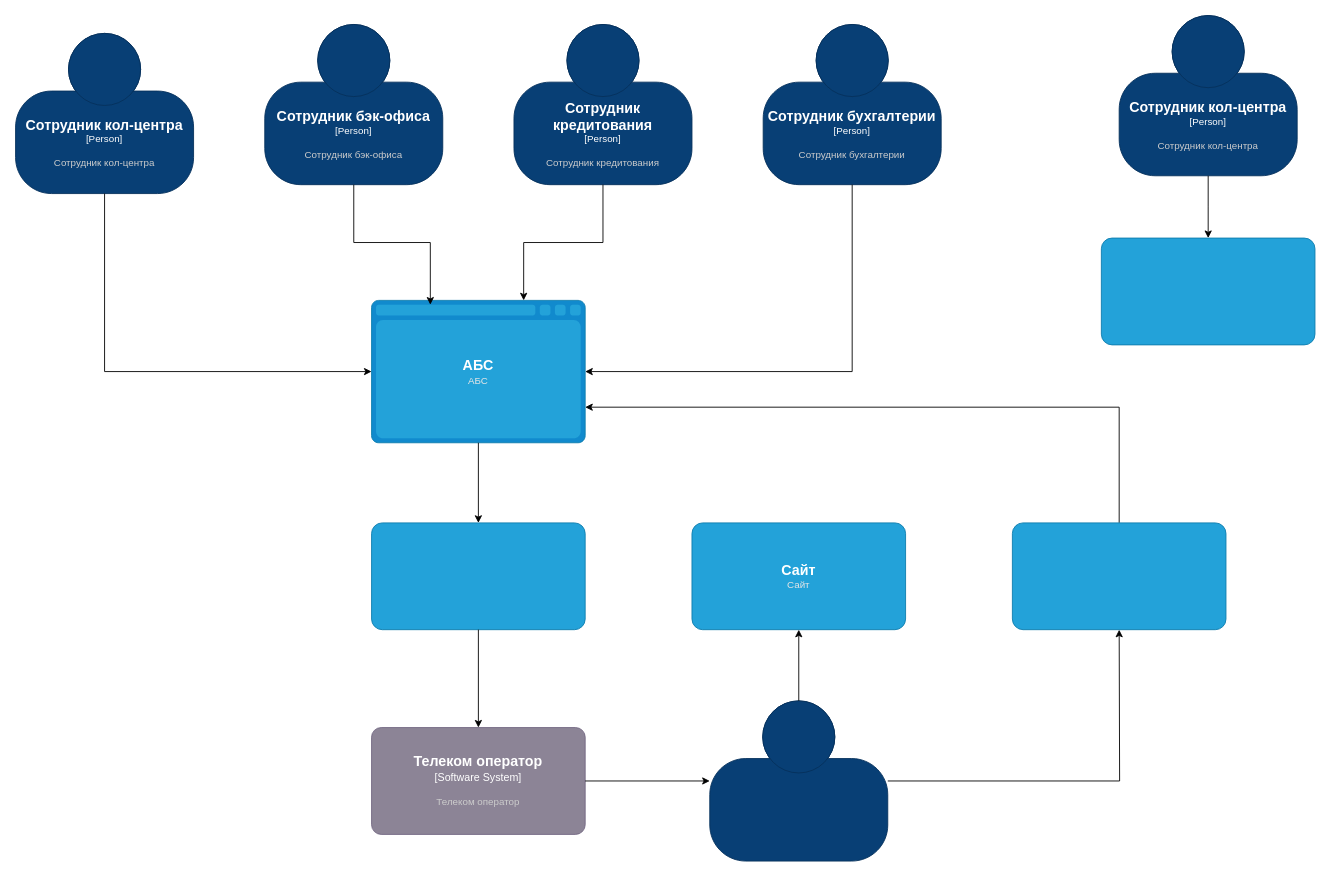
The diagram is 1331 pixels wide and 877 high, and some of its shapes have lost their labels. Each missing label, with the box of its shape:
Интернет-банк Интернет-банк: (1011, 522, 1226, 630)
Клиент [Person] Клиент: (709, 700, 888, 861)
Система кол-центра Система кол-центра: (1100, 237, 1315, 345)
СМС-шлюз СМС-шлюз: (371, 522, 585, 630)
